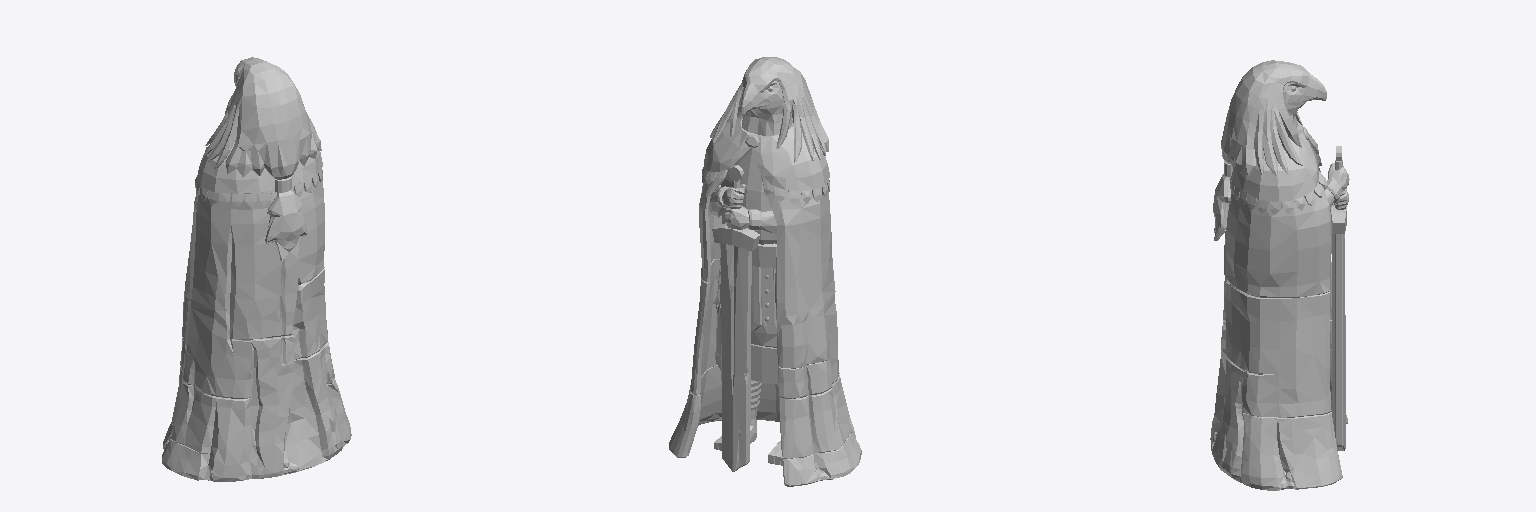
The picture shows the model from 3 angles: view 1: azimuth 30°, elevation 25°; view 2: azimuth 150°, elevation 25°; view 3: azimuth 270°, elevation 25°; orthographic projection.
Parts seen in each view (by area): view 1: M_0_BD_o80_3250_00_meshId0_name; view 2: M_0_BD_o80_3250_00_meshId0_name, M_1_PP_o80_3250_00_meshId1_name; view 3: M_0_BD_o80_3250_00_meshId0_name, M_1_PP_o80_3250_00_meshId1_name.
Boxes of the visible parts, x1,y1,x2,y2 form: M_0_BD_o80_3250_00_meshId0_name: [162, 57, 351, 481]; M_0_BD_o80_3250_00_meshId0_name: [669, 57, 861, 486]; M_1_PP_o80_3250_00_meshId1_name: [712, 165, 759, 471]; M_0_BD_o80_3250_00_meshId0_name: [1210, 60, 1349, 490]; M_1_PP_o80_3250_00_meshId1_name: [1330, 146, 1346, 450].
Bounding box in the file's own units: 6.28 × 13.45 × 4.37.